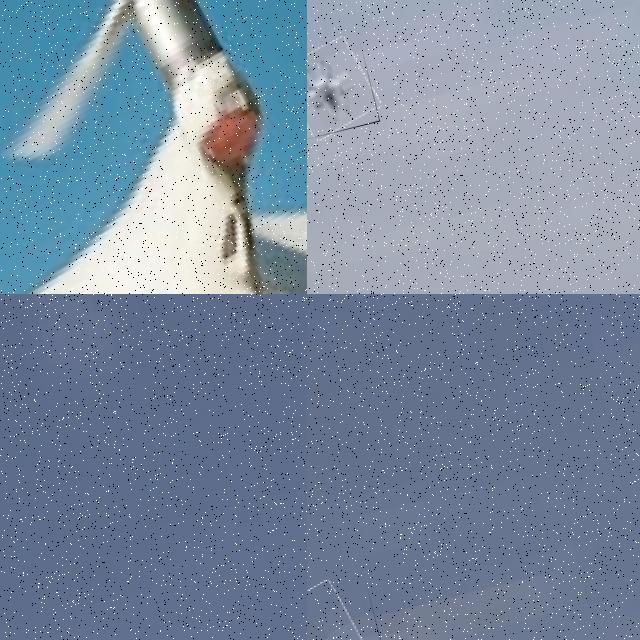drone: (0, 0, 307, 294), (307, 35, 380, 140)
